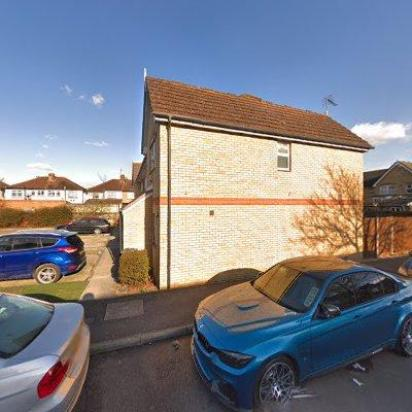stationary-car-offstreet: (0, 227, 86, 285), (54, 216, 112, 234)
stationary-car-onstreet: (188, 254, 412, 412), (0, 290, 92, 412), (398, 252, 412, 289)
